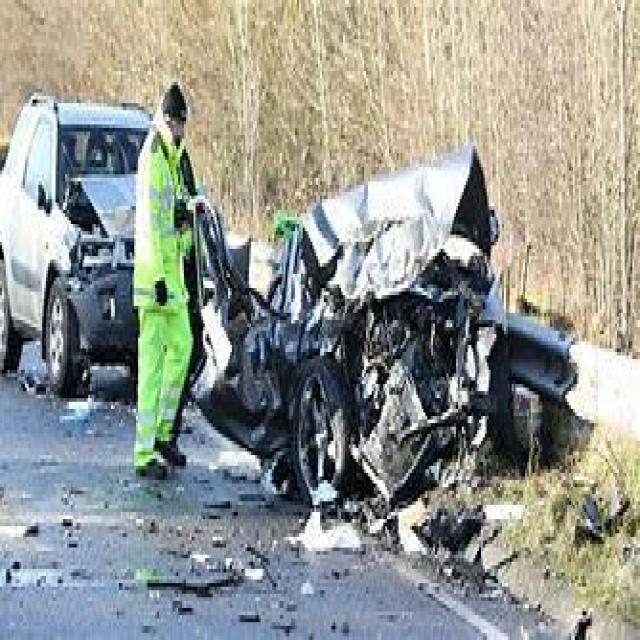Nguy hiểm: (191, 140, 595, 514), (32, 84, 142, 404)
